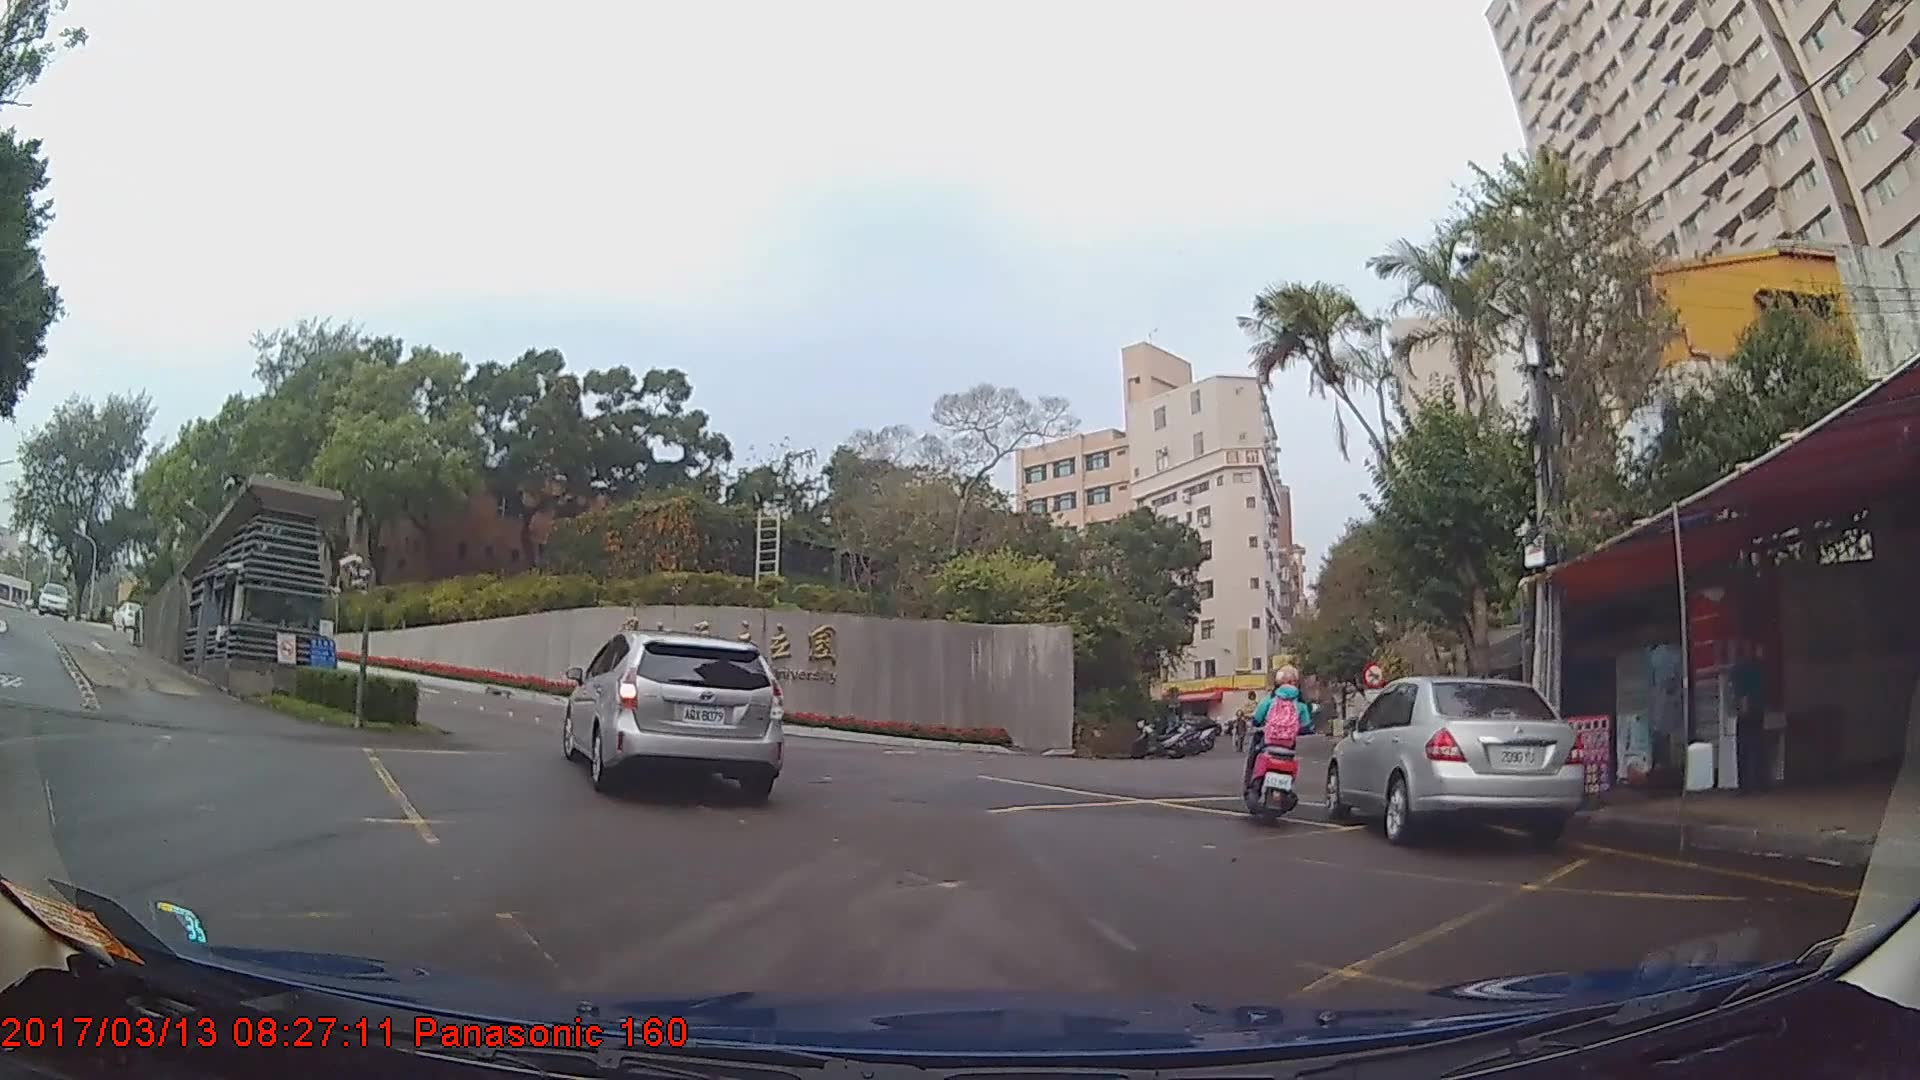pedestrian: (1730, 633, 1776, 792), (1230, 711, 1250, 755)
rider: (1242, 665, 1317, 835)
vehicle: (1325, 676, 1586, 845), (562, 629, 783, 804), (33, 578, 70, 617), (111, 600, 146, 630)
